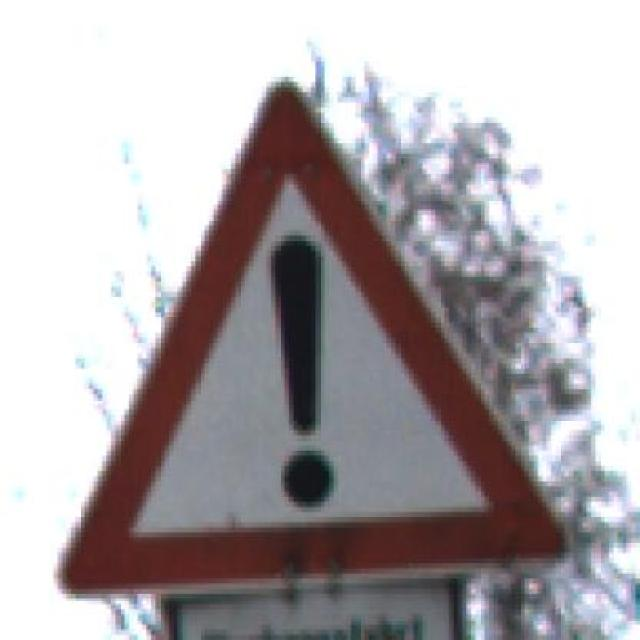Attention Please-: (40, 41, 574, 594)
